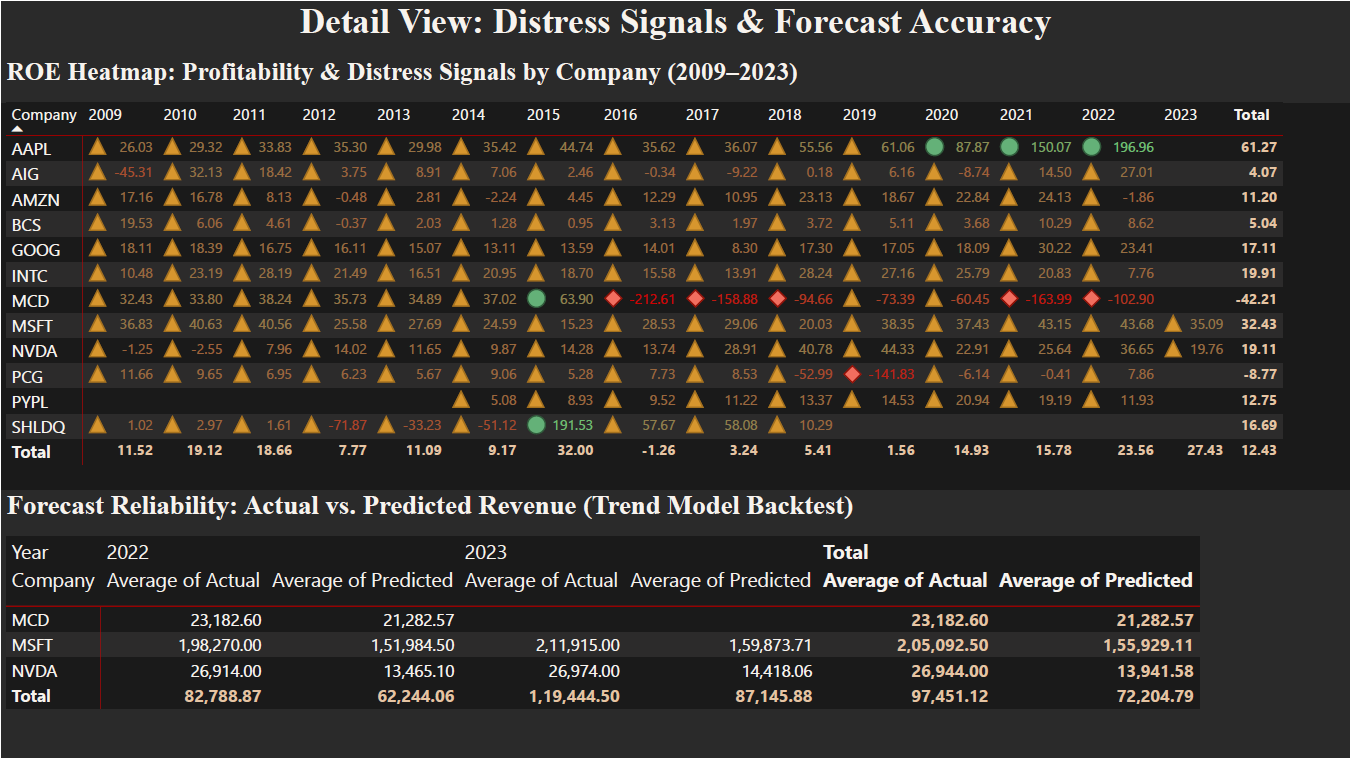

The dashboard page shown, as its layout file describes it:
{"tool":"powerbi","page":{"name":"Page 2","canvas":[1280,720],"ordinal":1},"visuals":[{"type":"pivotTable","title":"ROE Heatmap: Profitability & Distress Signals by Company (2009–2023)","fields":{"Rows":["financial_statements_cleaned.Company"],"Columns":["financial_statements_cleaned.Year"],"Values":["Avg(financial_statements_cleaned.ROE)"]},"box":[0,54.3,1280,410],"z":0},{"type":"pivotTable","title":"Forecast Reliability: Actual vs. Predicted Revenue (Trend Model Backtest)","fields":{"Rows":["backtest_results.Company"],"Columns":["backtest_results.Year"],"Values":["Avg(backtest_results.Actual)","Avg(backtest_results.Predicted)"]},"box":[0,464.3,1280,255.7],"z":1},{"type":"textbox","title":"Detail View: Distress Signals & Forecast Accuracy","box":[0,0,1280,54.3],"z":2}]}

Visuals, with their boxes in screenshot pixels (x1, y1, x2, y2), scaled from the page's 1280x720 canvas onto the 1352x758 screenshot:
"ROE Heatmap: Profitability & Distress Signals by Company (2009–2023)" pivotTable: {"left": 0, "top": 57, "right": 1351, "bottom": 489}
"Forecast Reliability: Actual vs. Predicted Revenue (Trend Model Backtest)" pivotTable: {"left": 0, "top": 489, "right": 1351, "bottom": 757}
"Detail View: Distress Signals & Forecast Accuracy" textbox: {"left": 0, "top": 0, "right": 1351, "bottom": 57}
